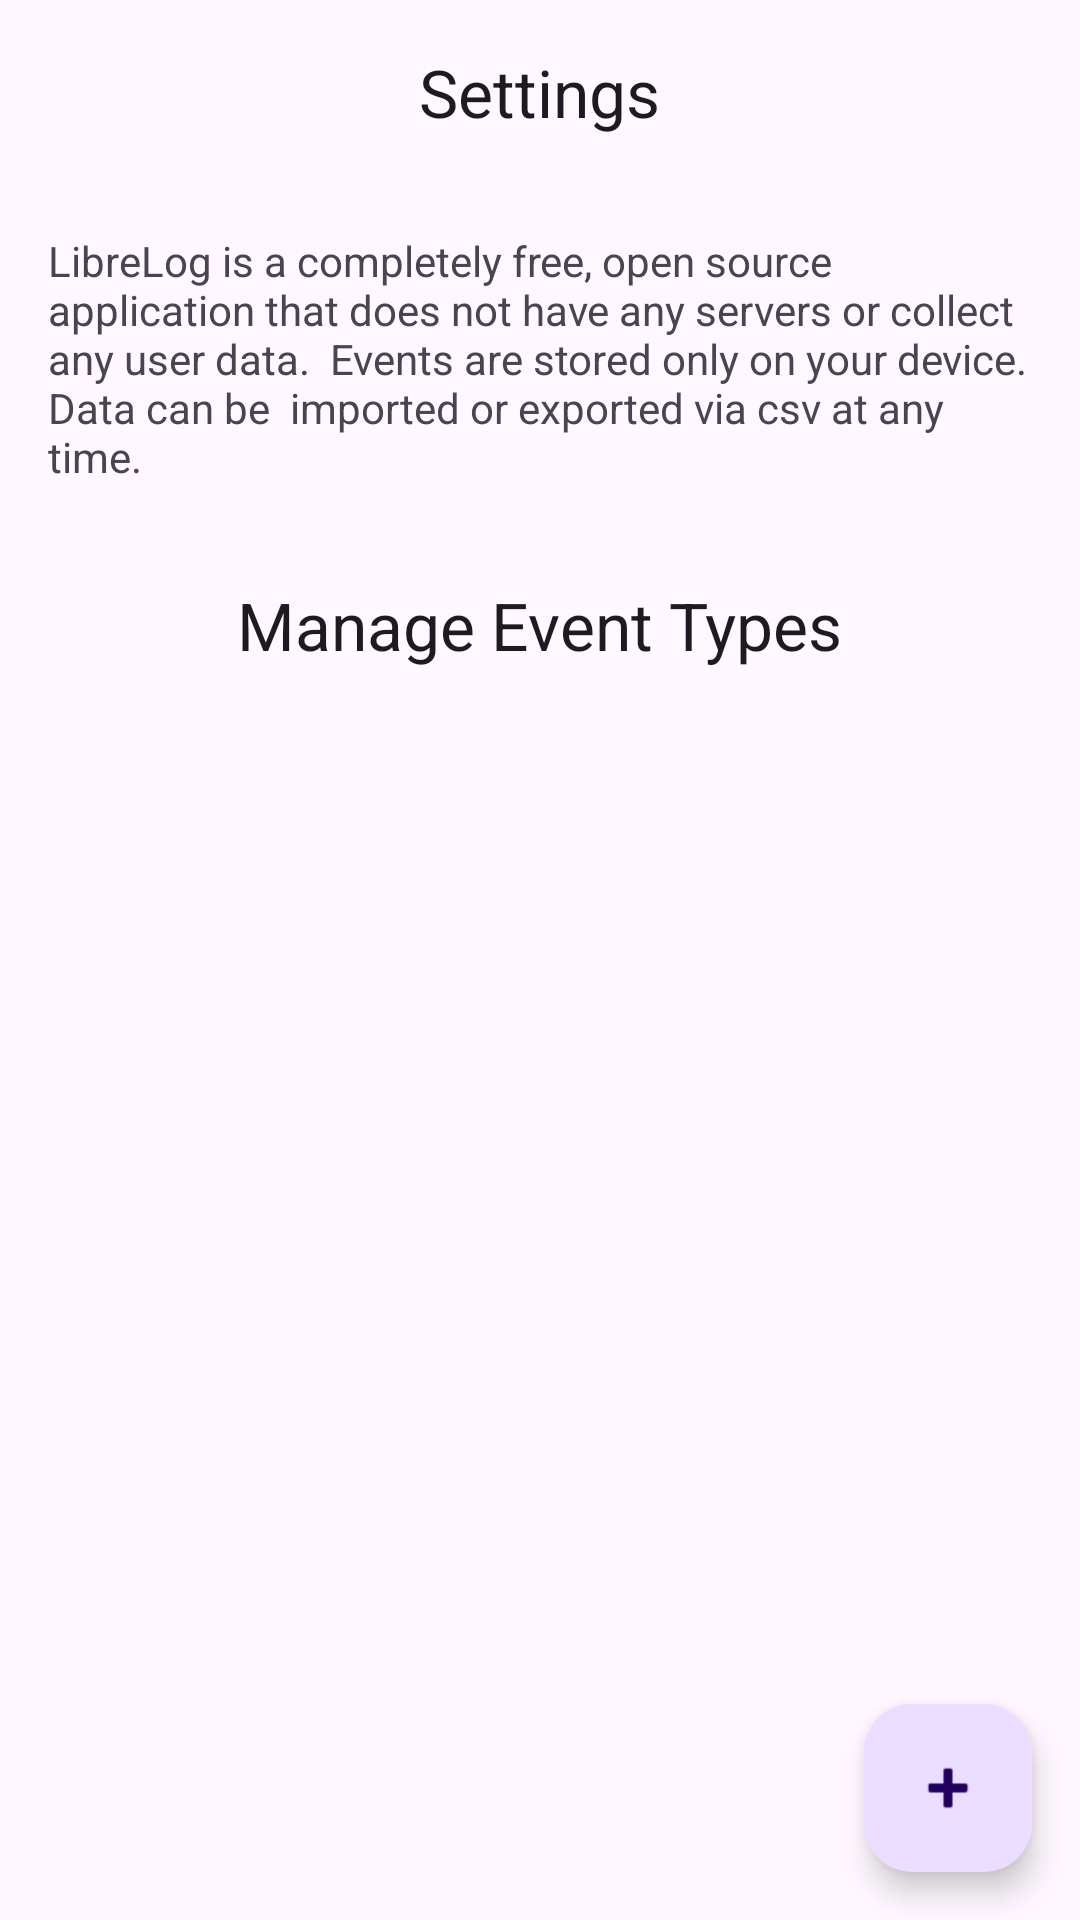

Screen size 1080 x 1920. Icon name, then its box in pixels as (x1, y1, x2, y2):
Add New Event Type: (864, 1704, 1032, 1872)
